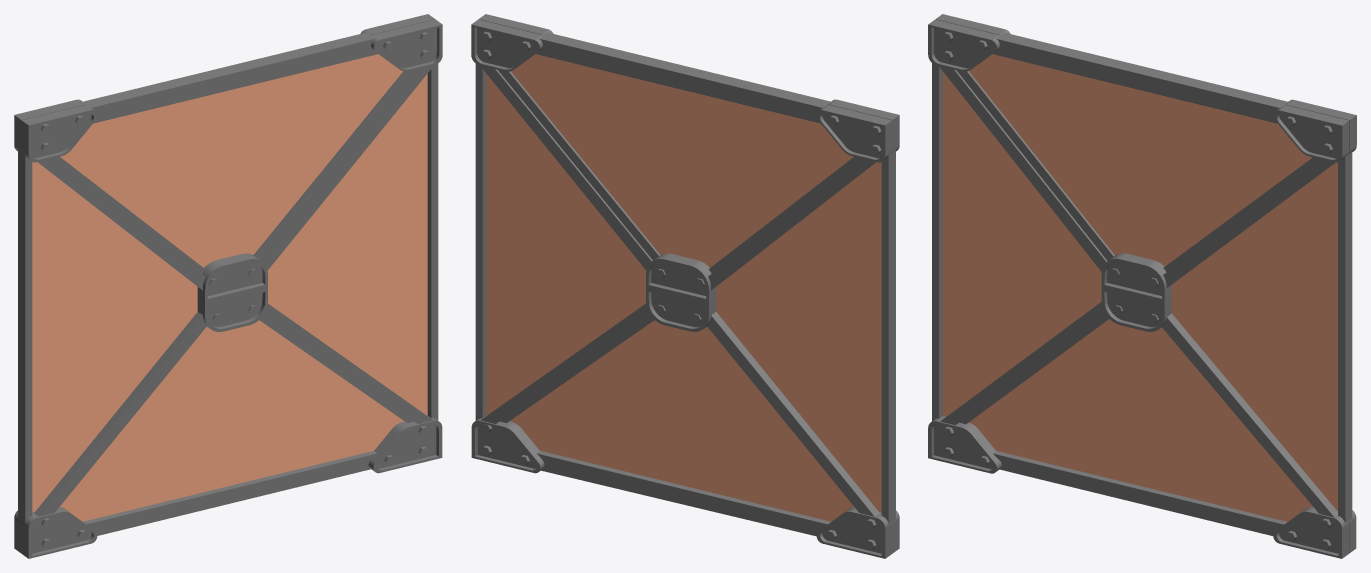
File: SM_Panel.FBX
The picture shows the model from 3 angles, left to right: view 1: azimuth 30°, elevation 25°; view 2: azimuth 150°, elevation 25°; view 3: azimuth 330°, elevation 25°; orthographic projection.
Parts seen in each view (by area): view 1: SM_Panel_LOD0; view 2: SM_Panel_LOD0; view 3: SM_Panel_LOD0.
Boxes of the visible parts, <box> form: SM_Panel_LOD0: <box>14,14,442,558</box>; SM_Panel_LOD0: <box>471,14,899,558</box>; SM_Panel_LOD0: <box>928,14,1356,558</box>.
Size of what is drawn, in the model's own units: 225 by 225 by 16.34.
